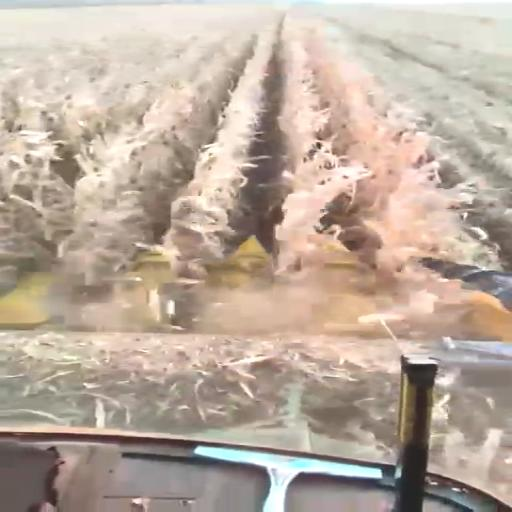misir: (1, 12, 512, 432)
